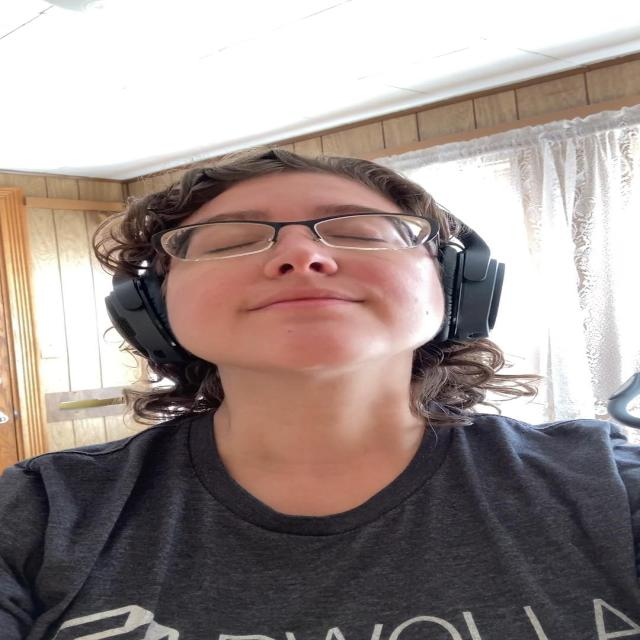no-helmet: (160, 170, 446, 380)
